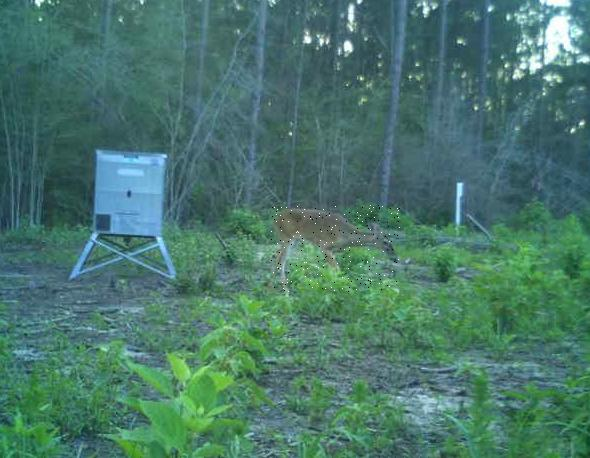Deer: (270, 205, 400, 292)
